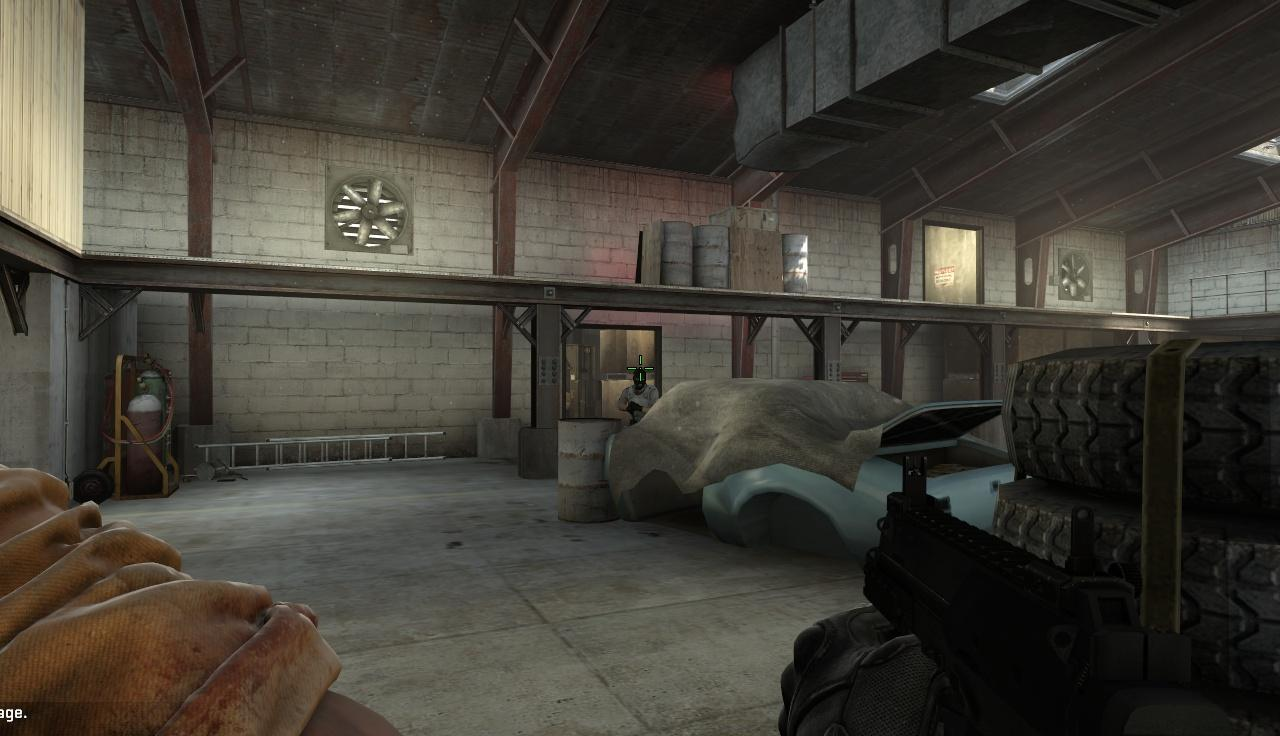rifle: (856, 460, 1136, 736)
tt: (623, 367, 657, 424)
tthead: (633, 368, 648, 389)
